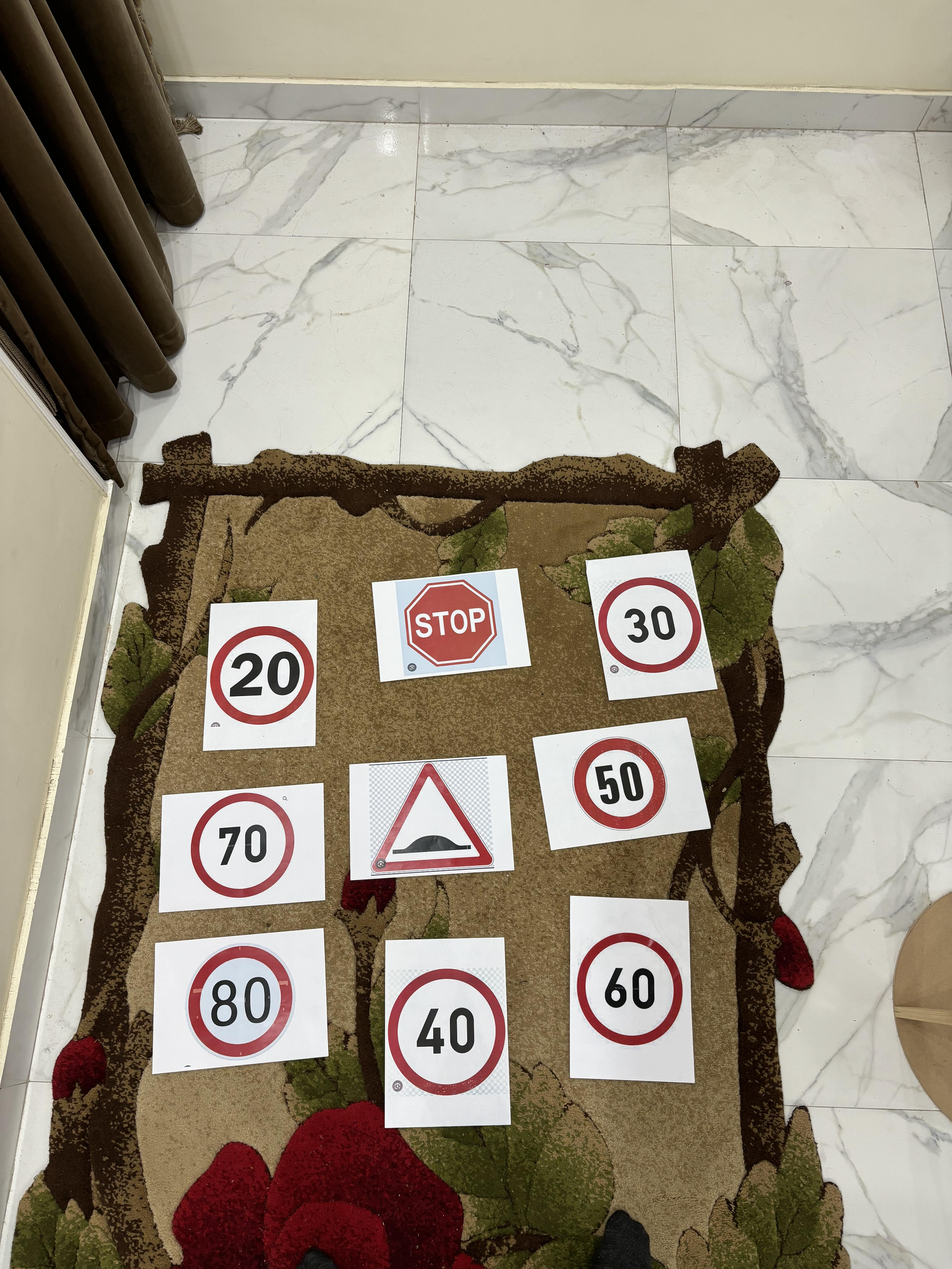20-Speed: (210, 620, 318, 725)
30-speed: (600, 578, 705, 673)
40-Speed: (388, 976, 509, 1094)
50-Speed: (575, 736, 672, 829)
60-Speed: (577, 925, 683, 1046)
70-Speed: (187, 791, 300, 901)
80-Speed: (189, 942, 296, 1057)
Hump: (376, 767, 489, 877)
Stop: (402, 580, 503, 668)
